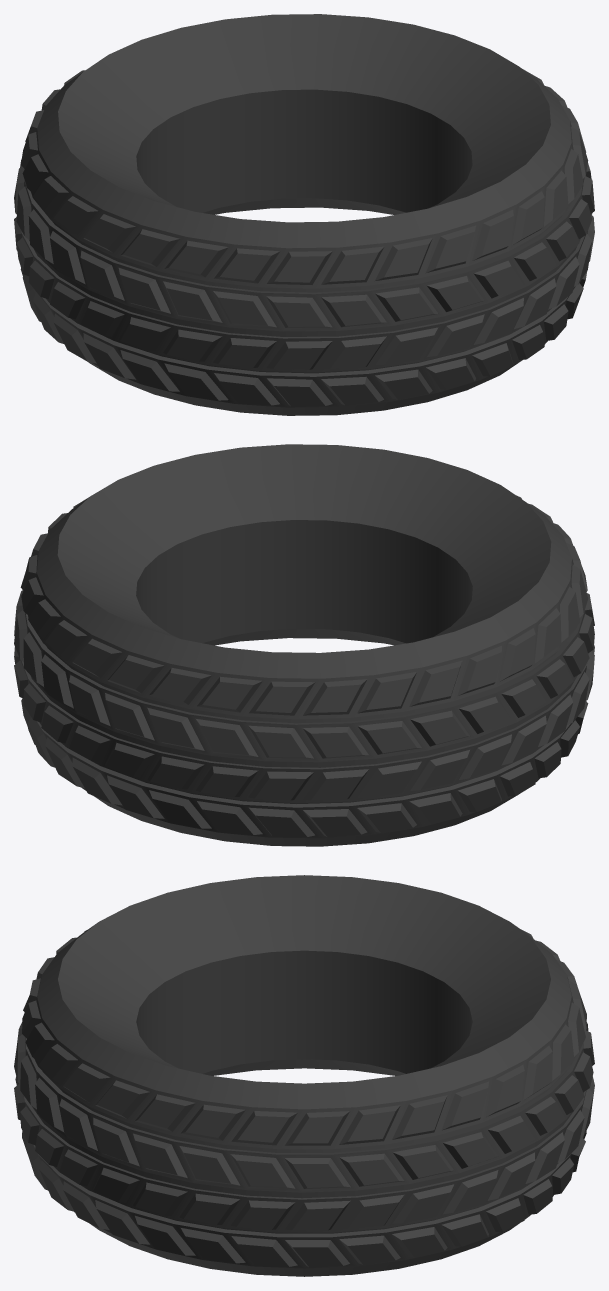
Rendered from Whell.fbx.
3 views of the same model, one above another, from view 1: azimuth 30°, elevation 25°; view 2: azimuth 150°, elevation 25°; view 3: azimuth 270°, elevation 25° (orthographic).
Parts seen in each view (by area): view 1: Whell; view 2: Whell; view 3: Whell.
Boxes of the visible parts, x1,y1,x2,y2 form: Whell: [14, 14, 594, 415]; Whell: [14, 444, 594, 846]; Whell: [14, 875, 594, 1276].
Size of the model in its own units: 1.47 by 1.47 by 0.5407.
